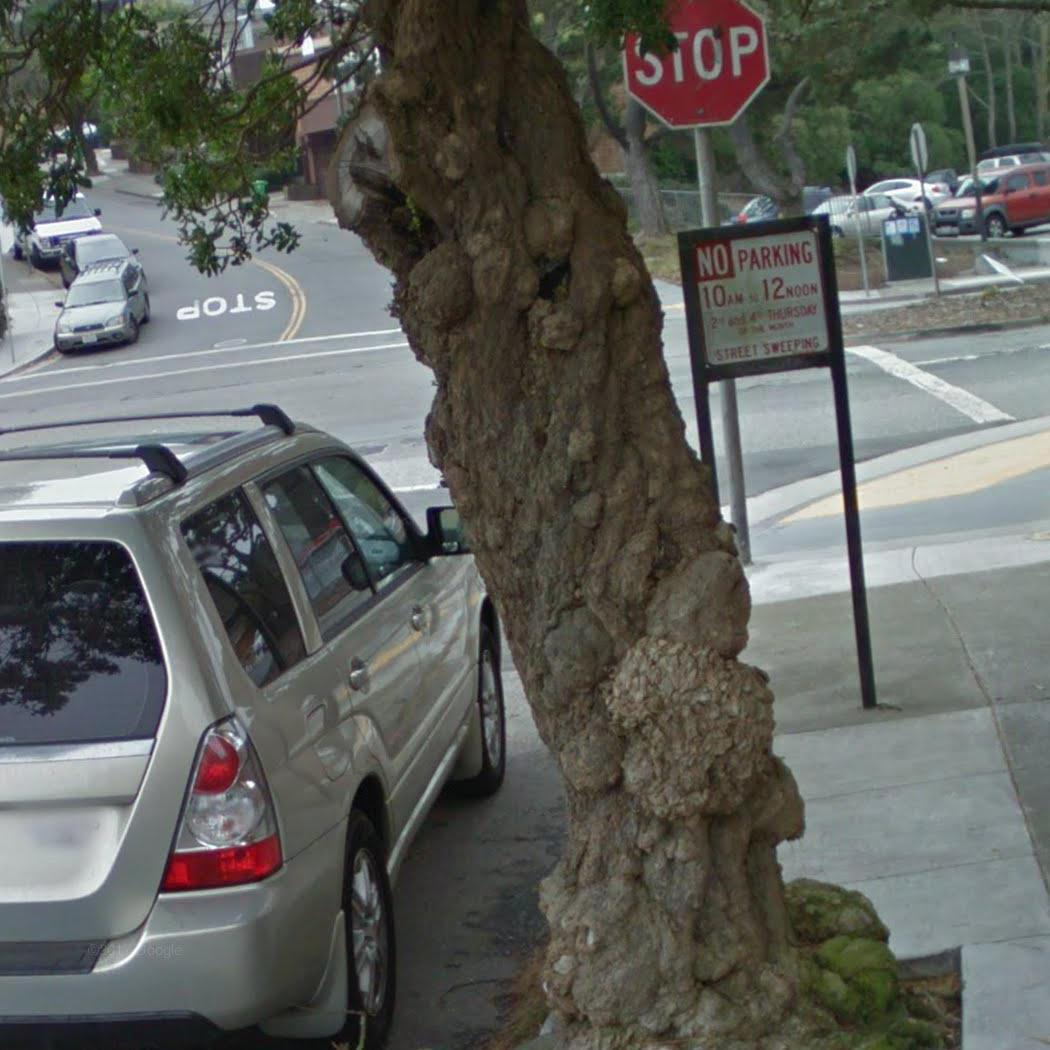No Parking: (688, 225, 832, 370)
